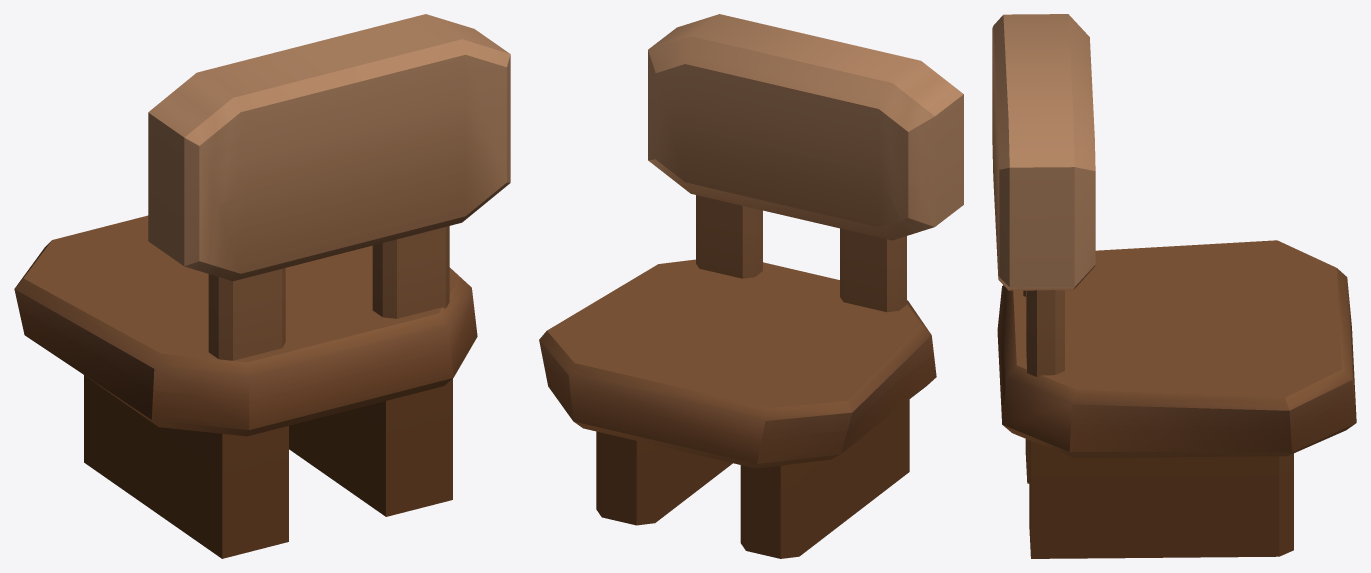
Rendered from chair.glb.
3 renders of one model, left to right at view 1: azimuth 30°, elevation 25°; view 2: azimuth 150°, elevation 25°; view 3: azimuth 270°, elevation 25°, orthographic. The views are drawn at different scales.
Parts seen in each view (by area): view 1: chair; view 2: chair; view 3: chair.
Boxes of the visible parts, bbox=[...] form: chair: bbox=[14, 14, 510, 558]; chair: bbox=[539, 14, 963, 558]; chair: bbox=[992, 14, 1356, 558].
Bounding box in the file's own units: 0.7276 × 0.9067 × 0.6842.
1 material, 1 textured.
